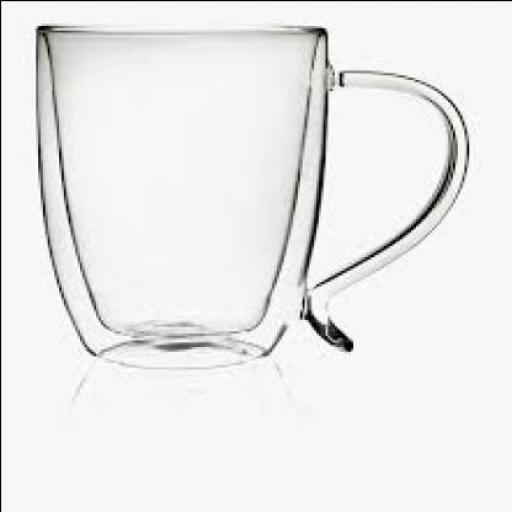glass: (32, 20, 464, 364)
